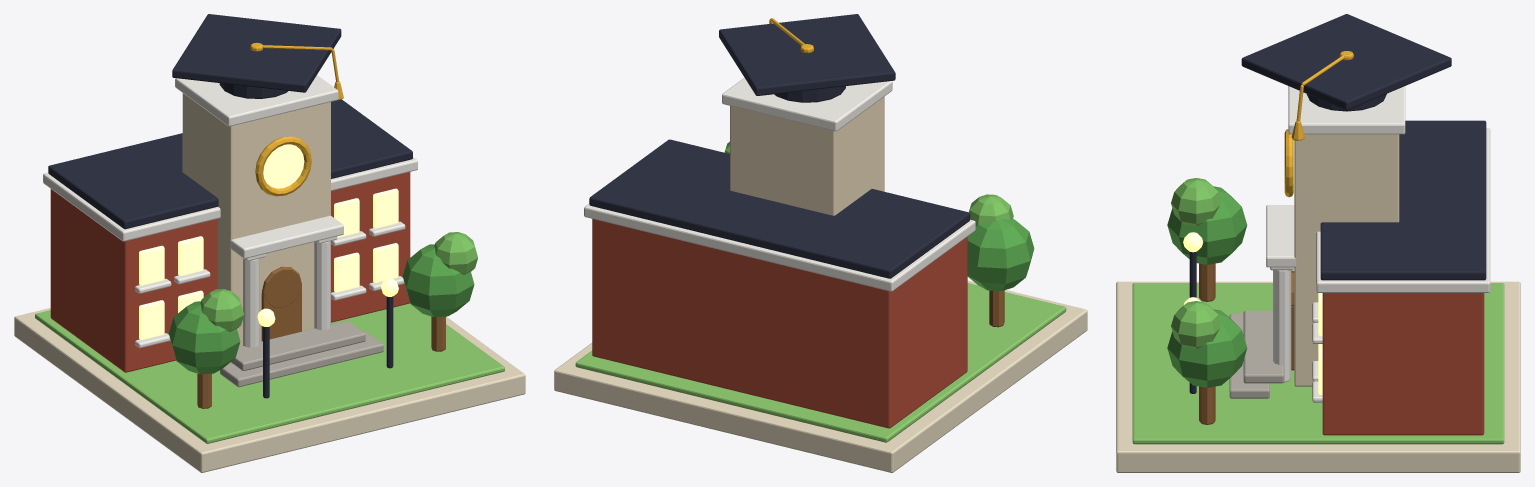
Rendered from university.glb.
3 views of the same model, side by side, from view 1: azimuth 30°, elevation 25°; view 2: azimuth 150°, elevation 25°; view 3: azimuth 270°, elevation 25° (orthographic). The views are drawn at different scales.
Visible parts, largest first — view 1: University; view 2: University; view 3: University.
Part boxes in pixels (<box>): University: <box>14,14,525,472</box>; University: <box>554,14,1087,472</box>; University: <box>1116,14,1520,472</box>.
Bounding box in the file's own units: 2 × 1.83 × 2.
